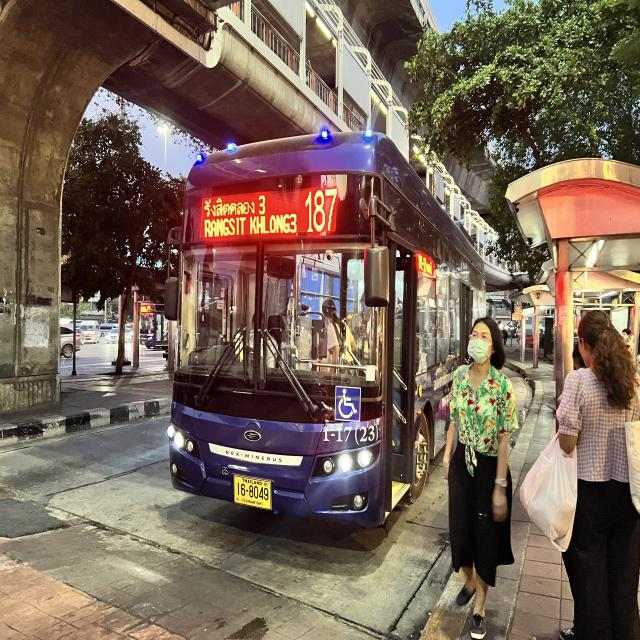Bus-Line-Number: (304, 180, 342, 236)
Destination-Sign-Normal: (198, 181, 300, 241), (317, 422, 382, 445)
TSB-Bus: (152, 119, 490, 544)
